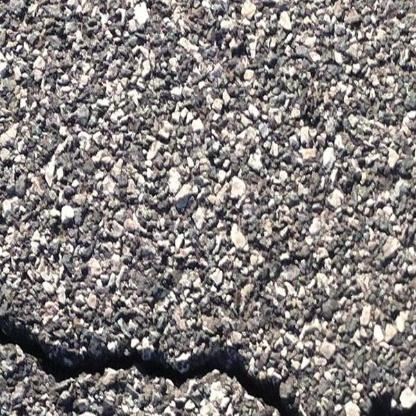Cracks: (0, 296, 323, 416), (338, 391, 416, 416)
